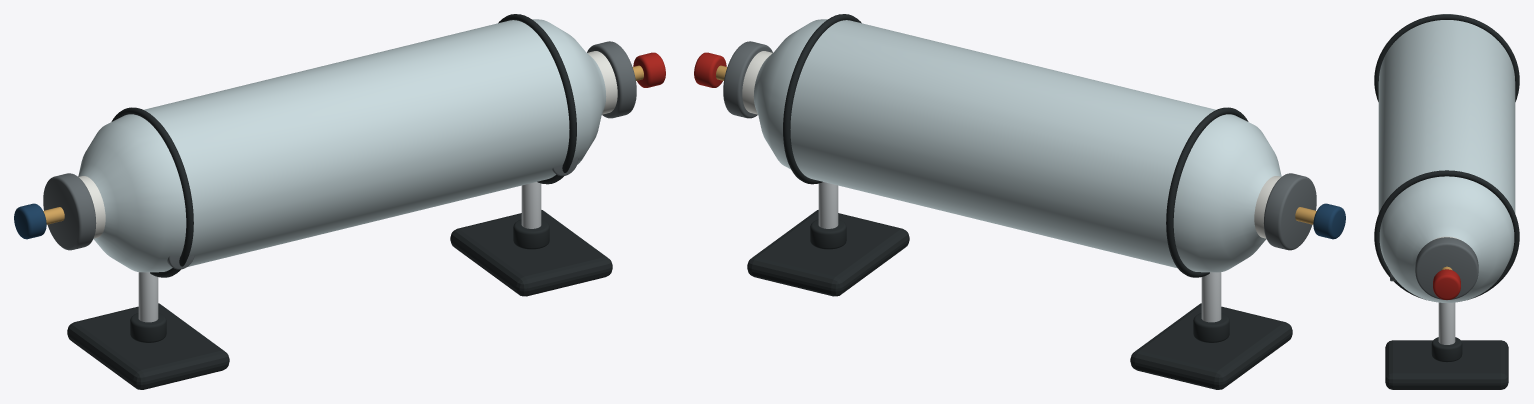
Rendered from photoelectric-photocell.glb.
The picture shows the model from 3 angles, left to right: view 1: azimuth 30°, elevation 25°; view 2: azimuth 150°, elevation 25°; view 3: azimuth 270°, elevation 25°; orthographic projection. The views are drawn at different scales.
Parts seen in each view (by area): view 1: Glass_Vacuum_Envelope, Right_Support_Base, Left_Support_Base, Cathode_Metal_Collar, Left_Tube_Clamp, Collector_Metal_Collar, Right_Tube_Clamp, Left_Support_Post, Cathode_Terminal_Grip, Right_Support_Post, Right_Post_Collar, Left_Post_Collar (+3 smaller); view 2: Glass_Vacuum_Envelope, Right_Support_Base, Left_Support_Base, Cathode_Metal_Collar, Left_Tube_Clamp, Right_Tube_Clamp, Collector_Metal_Collar, Left_Support_Post, Cathode_Terminal_Grip, Right_Support_Post, Right_Post_Collar, Left_Post_Collar (+3 smaller); view 3: Glass_Vacuum_Envelope, Right_Support_Base, Collector_Metal_Collar, Right_Tube_Clamp, Left_Tube_Clamp, Right_Support_Post, Collector_Terminal_Grip, Right_Post_Collar.
Boxes of the visible parts, <box> form: Glass_Vacuum_Envelope: <box>78,19,606,272</box>; Right_Support_Base: <box>450,210,612,296</box>; Left_Support_Base: <box>67,303,229,389</box>; Cathode_Metal_Collar: <box>43,173,96,250</box>; Left_Tube_Clamp: <box>111,107,193,277</box>; Collector_Metal_Collar: <box>587,41,636,118</box>; Right_Tube_Clamp: <box>498,14,576,184</box>; Left_Support_Post: <box>138,272,158,322</box>; Cathode_Terminal_Grip: <box>14,203,46,239</box>; Right_Support_Post: <box>521,182,541,228</box>; Right_Post_Collar: <box>513,219,549,249</box>; Left_Post_Collar: <box>130,313,166,342</box>; Glass_Vacuum_Envelope: <box>753,19,1281,272</box>; Right_Support_Base: <box>747,210,909,296</box>; Left_Support_Base: <box>1130,303,1292,389</box>; Cathode_Metal_Collar: <box>1263,173,1316,250</box>; Left_Tube_Clamp: <box>1166,107,1248,277</box>; Right_Tube_Clamp: <box>783,14,861,184</box>; Collector_Metal_Collar: <box>723,41,772,118</box>; Left_Support_Post: <box>1201,272,1221,322</box>; Cathode_Terminal_Grip: <box>1313,203,1345,239</box>; Right_Support_Post: <box>818,182,838,228</box>; Right_Post_Collar: <box>810,219,846,249</box>; Left_Post_Collar: <box>1193,313,1229,342</box>; Glass_Vacuum_Envelope: <box>1378,14,1515,302</box>; Right_Support_Base: <box>1385,340,1508,389</box>; Collector_Metal_Collar: <box>1415,237,1478,299</box>; Right_Tube_Clamp: <box>1374,170,1519,300</box>; Left_Tube_Clamp: <box>1374,14,1519,101</box>; Right_Support_Post: <box>1438,302,1455,344</box>; Collector_Terminal_Grip: <box>1433,269,1460,299</box>; Right_Post_Collar: <box>1431,337,1462,362</box>.
Size of the model in its own units: 9.72 by 3.53 by 2.3.
